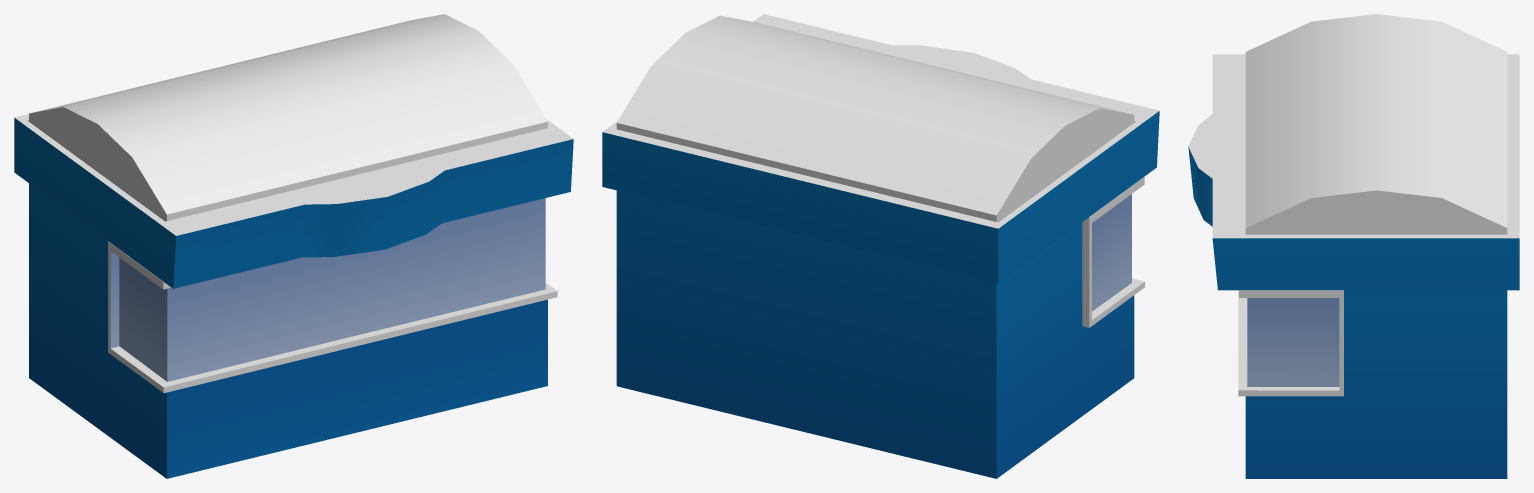
The model's file is jaatelokioski.fbx.
The picture shows the model from 3 angles, left to right: view 1: azimuth 30°, elevation 25°; view 2: azimuth 150°, elevation 25°; view 3: azimuth 270°, elevation 25°; orthographic projection. The views are drawn at different scales.
Parts seen in each view (by area): view 1: jaatelokioski; view 2: jaatelokioski; view 3: jaatelokioski.
Boxes of the visible parts, x1,y1,x2,y2 form: jaatelokioski: [14, 14, 573, 478]; jaatelokioski: [602, 14, 1159, 478]; jaatelokioski: [1188, 14, 1519, 478].
Bounding box in the file's own units: 19.25 × 14.08 × 14.65.
